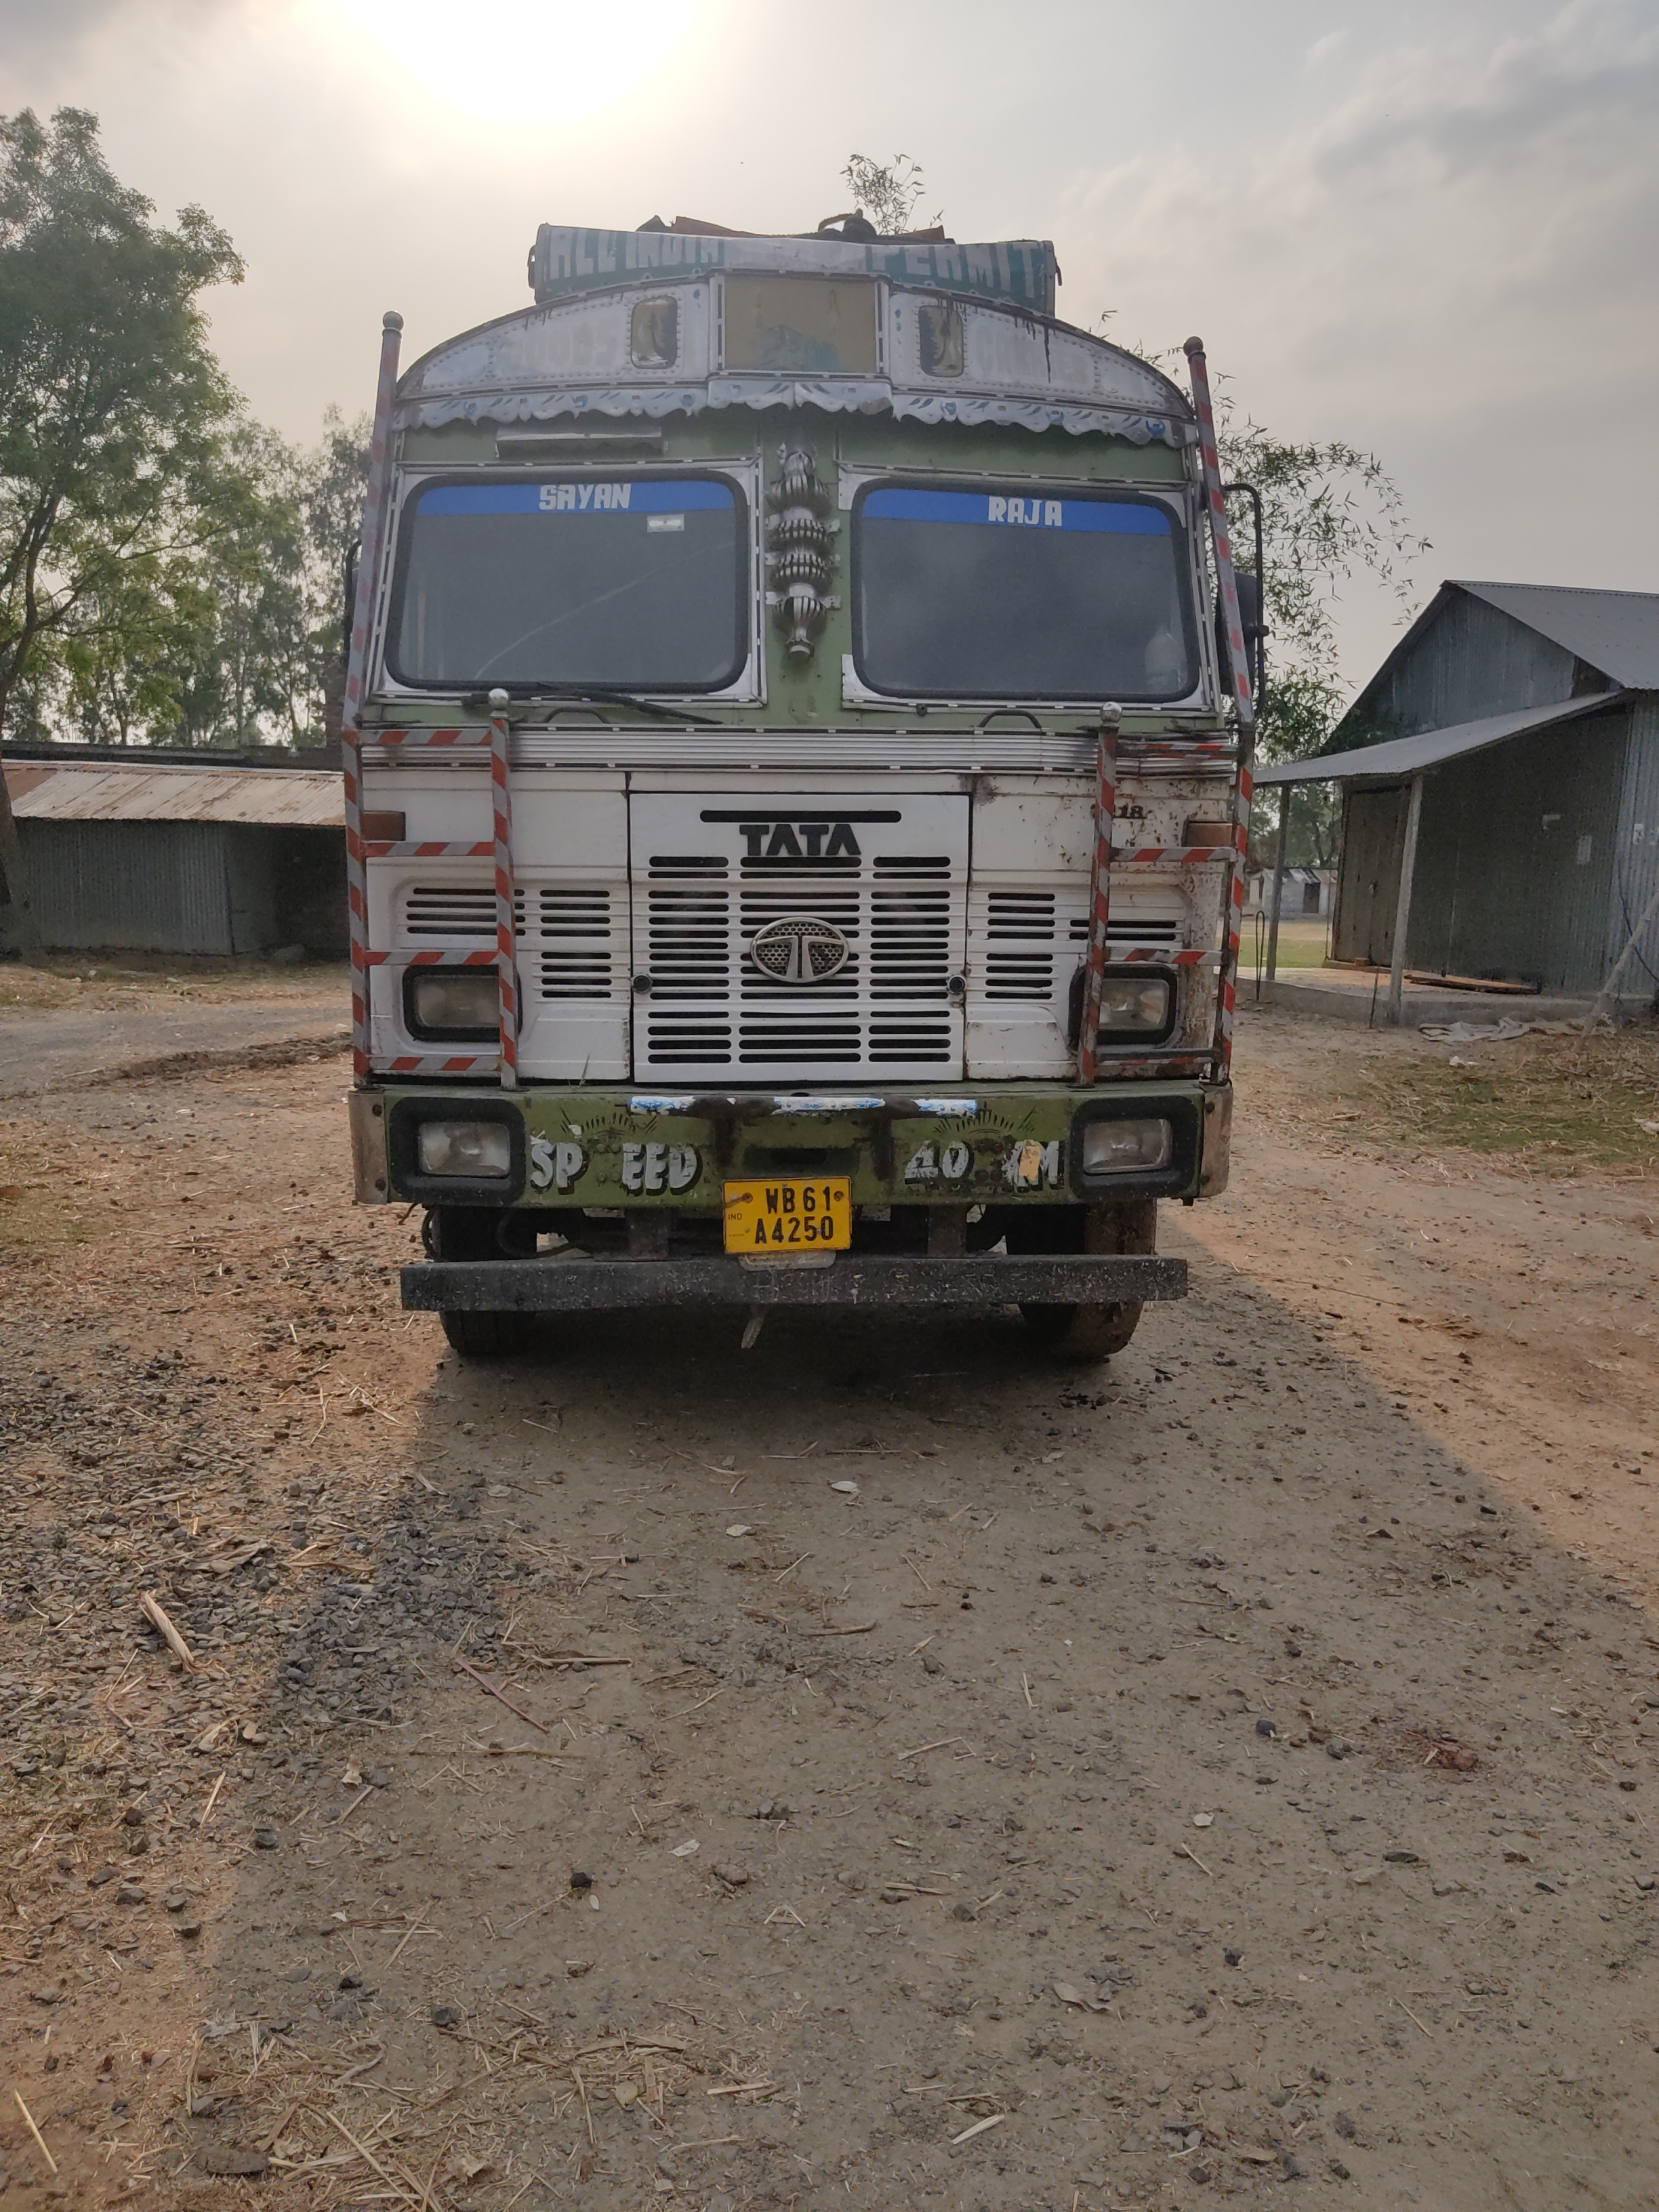truck: (336, 206, 1276, 1364)
